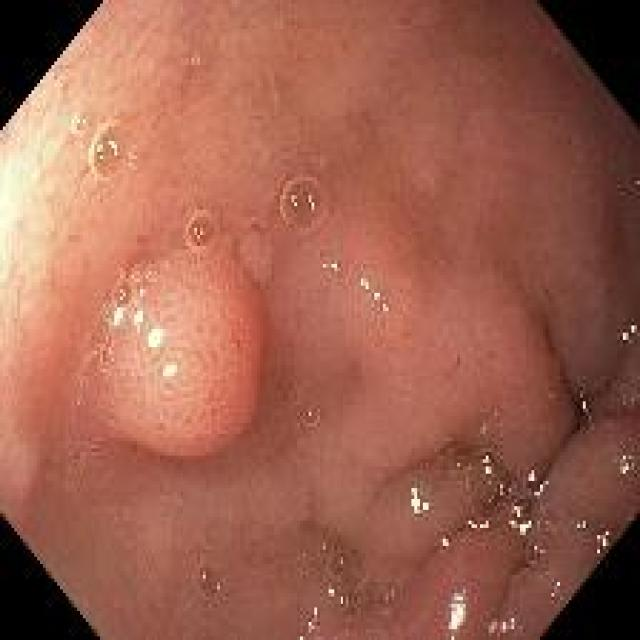Polyps: (99, 248, 264, 459)
